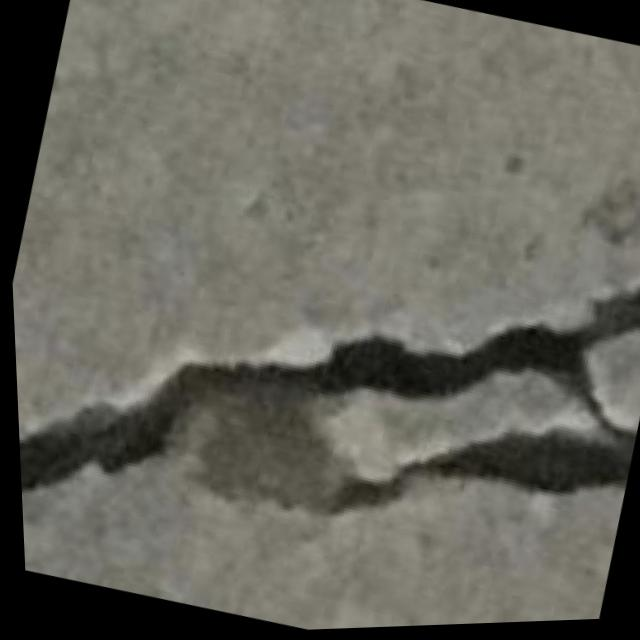Crack: (5, 133, 640, 640)
